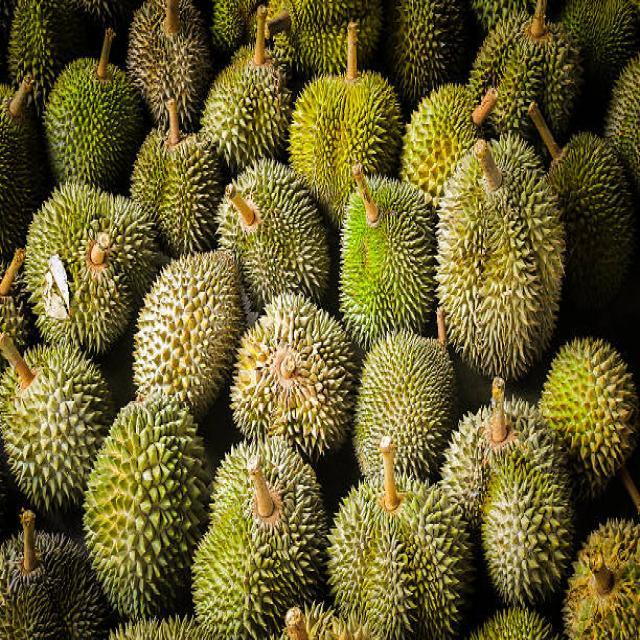immature: (435, 128, 565, 384), (442, 391, 582, 621), (82, 385, 214, 621), (190, 437, 331, 640), (23, 176, 155, 362), (229, 289, 356, 463), (132, 246, 244, 424), (287, 69, 403, 232), (219, 160, 334, 313), (340, 173, 436, 351), (359, 327, 457, 489)
